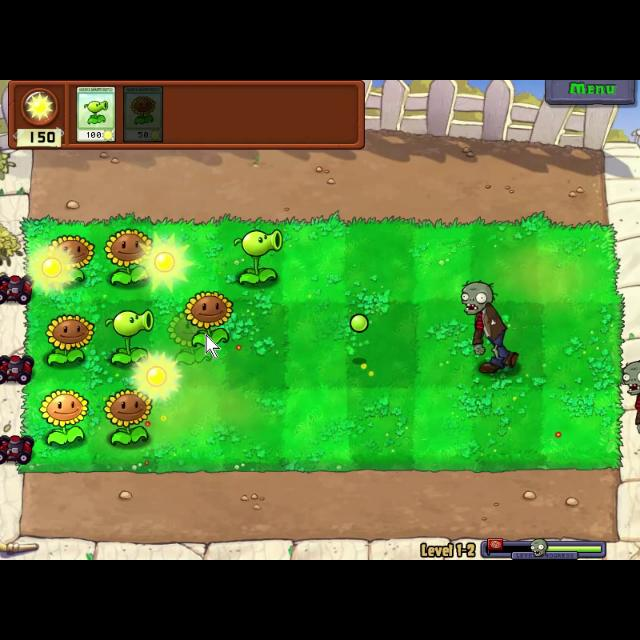Garden: (16, 215, 624, 473)
Menu Button: (541, 80, 637, 106)
Mower: (0, 272, 38, 306), (0, 354, 38, 386), (1, 433, 36, 465)
Peashooter: (75, 84, 117, 144)
Peashooter Seed: (232, 224, 288, 290), (102, 308, 158, 368)
Seed Panel: (5, 80, 368, 152)
Sun: (135, 231, 191, 287), (128, 354, 188, 401), (27, 242, 77, 298)
Sunflower: (122, 82, 166, 144)
Sunflower Seed: (100, 384, 156, 456), (36, 387, 90, 451), (97, 228, 155, 286), (42, 308, 94, 369), (181, 292, 237, 346), (46, 232, 90, 284)
Zombie: (450, 277, 520, 371), (622, 358, 640, 432)
